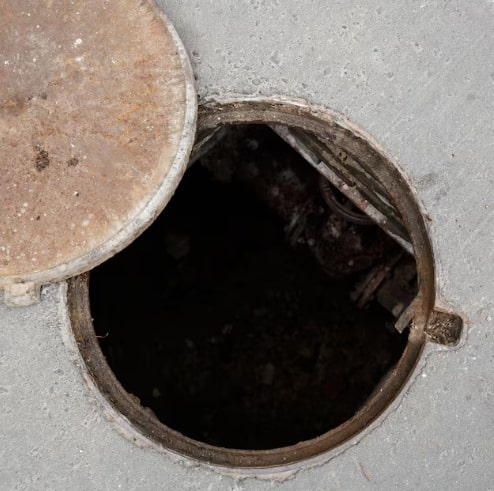open_manhole: (95, 105, 430, 443)
